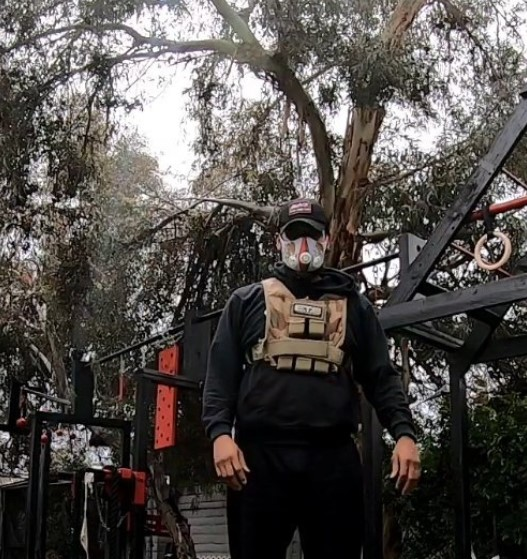face_with_mask: (274, 198, 332, 275)
